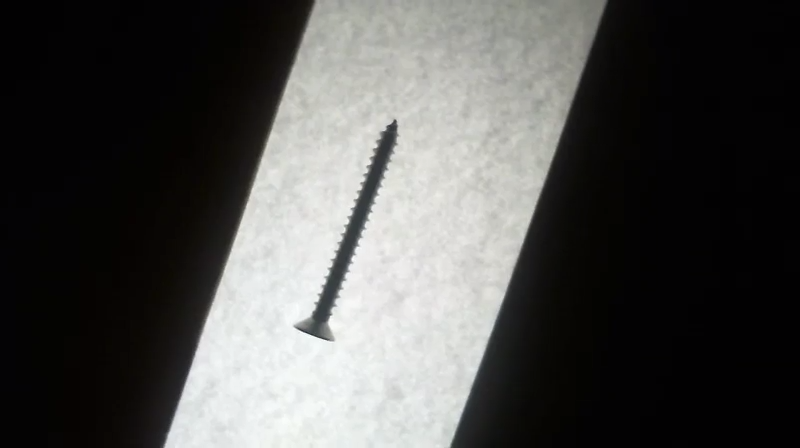S002: (290, 117, 401, 345)
